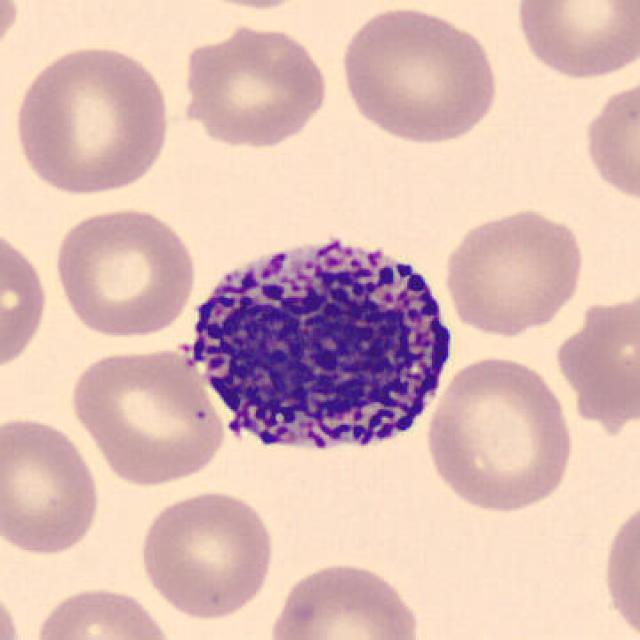Basophil: (170, 218, 466, 472)
RBC: (9, 41, 174, 199), (421, 351, 578, 515), (336, 2, 503, 146), (66, 342, 228, 488), (50, 203, 201, 340), (176, 19, 332, 150), (439, 202, 589, 338), (135, 487, 279, 622), (0, 412, 105, 559), (265, 557, 427, 640), (546, 298, 640, 436), (510, 0, 638, 83), (30, 582, 178, 640), (0, 222, 52, 377), (579, 76, 640, 208), (599, 492, 640, 640), (171, 0, 327, 14), (0, 0, 25, 74), (0, 578, 25, 640)
